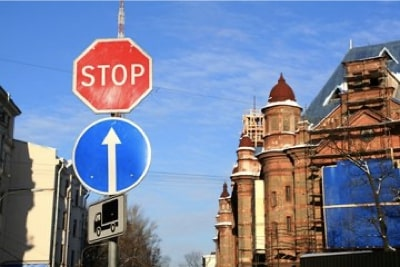StopSign: (71, 36, 155, 116)
